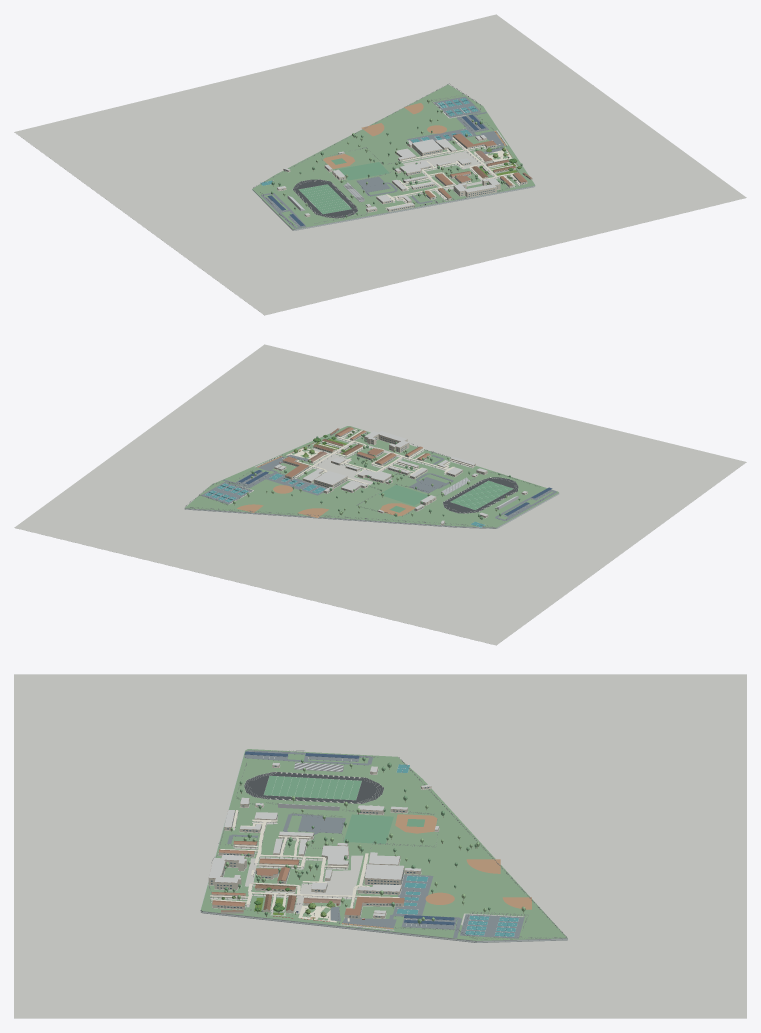
The model's file is arroyo-editor.glb.
3 renders of one model, top to bottom at view 1: azimuth 30°, elevation 25°; view 2: azimuth 150°, elevation 25°; view 3: azimuth 270°, elevation 25°, orthographic. The views are drawn at different scales.
Visible parts, largest first — view 1: Extended viewing ground, Campus lawn, way-1250886424, way-1250886425, way-1250886422; view 2: Extended viewing ground, Campus lawn, way-1250886424, way-1250886425, way-1250886422, Campus plinth.009; view 3: Extended viewing ground, Campus lawn, way-1250886424, way-1250886425, way-1250886422, gym-quad, way-1510898022, hard-court-apron, Campus plinth.005, West parking, way-1250886423.
Boxes of the visible parts, bbox=[...] form: Extended viewing ground: bbox=[14, 14, 746, 315]; Campus lawn: bbox=[252, 84, 534, 229]; way-1250886424: bbox=[298, 184, 351, 214]; way-1250886425: bbox=[293, 179, 357, 218]; way-1250886422: bbox=[338, 162, 389, 180]; Extended viewing ground: bbox=[14, 344, 746, 645]; Campus lawn: bbox=[185, 426, 558, 527]; way-1250886424: bbox=[450, 480, 513, 509]; way-1250886425: bbox=[443, 477, 518, 513]; way-1250886422: bbox=[379, 485, 427, 505]; Campus plinth.009: bbox=[218, 510, 457, 527]; Extended viewing ground: bbox=[14, 674, 746, 1018]; Campus lawn: bbox=[201, 749, 567, 940]; way-1250886424: bbox=[264, 775, 361, 800]; way-1250886425: bbox=[244, 772, 383, 803]; way-1250886422: bbox=[343, 814, 393, 843]; gym-quad: bbox=[300, 855, 363, 897]; way-1510898022: bbox=[460, 914, 524, 938]; hard-court-apron: bbox=[393, 874, 433, 915]; Campus plinth.005: bbox=[202, 911, 457, 940]; West parking: bbox=[298, 816, 345, 833]; way-1250886423: bbox=[395, 814, 437, 833].
Bounding box in the file's own units: 1000 × 14.73 × 900.
